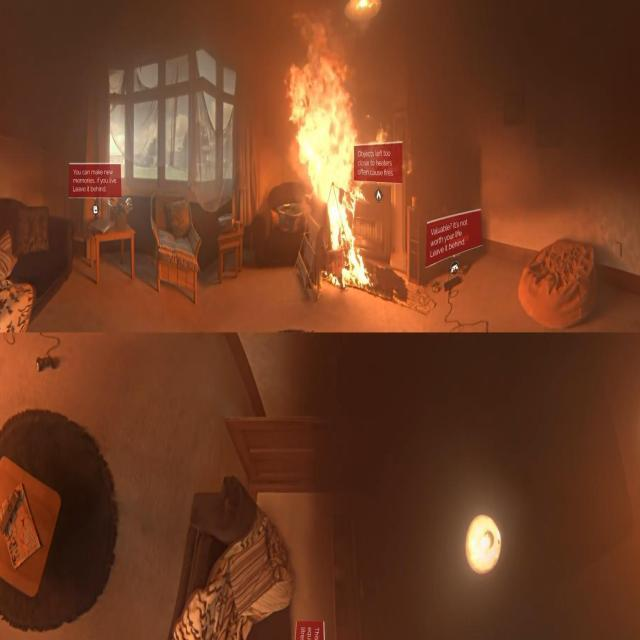smoke: (282, 41, 376, 302)
